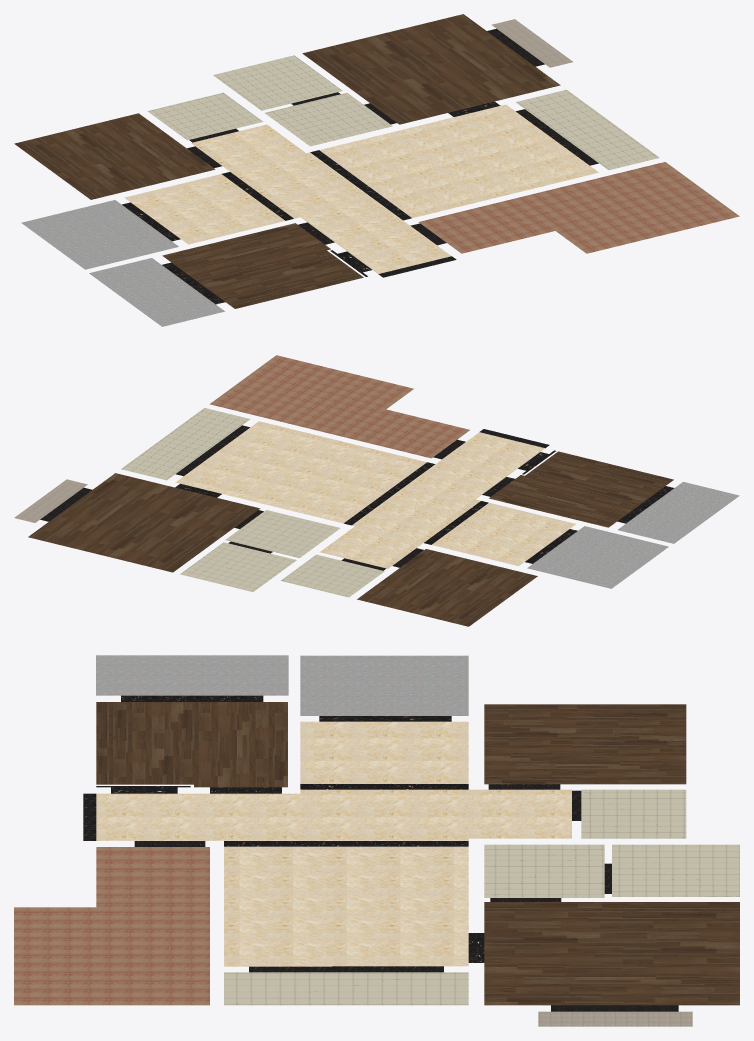
Rendered from dimian.fbx.
The picture shows the model from 3 angles, top to bottom: view 1: azimuth 30°, elevation 25°; view 2: azimuth 150°, elevation 25°; view 3: azimuth 270°, elevation 25°; orthographic projection. The views are drawn at different scales.
Visible parts, largest first — view 1: dimian; view 2: dimian; view 3: dimian.
Boxes of the visible parts, x1=… form: dimian: x1=14, y1=14, x2=739, y2=326; dimian: x1=14, y1=355, x2=739, y2=626; dimian: x1=14, y1=655, x2=739, y2=1026.
Bounding box in the file's own units: 1423 × 0.000244 × 1175.
